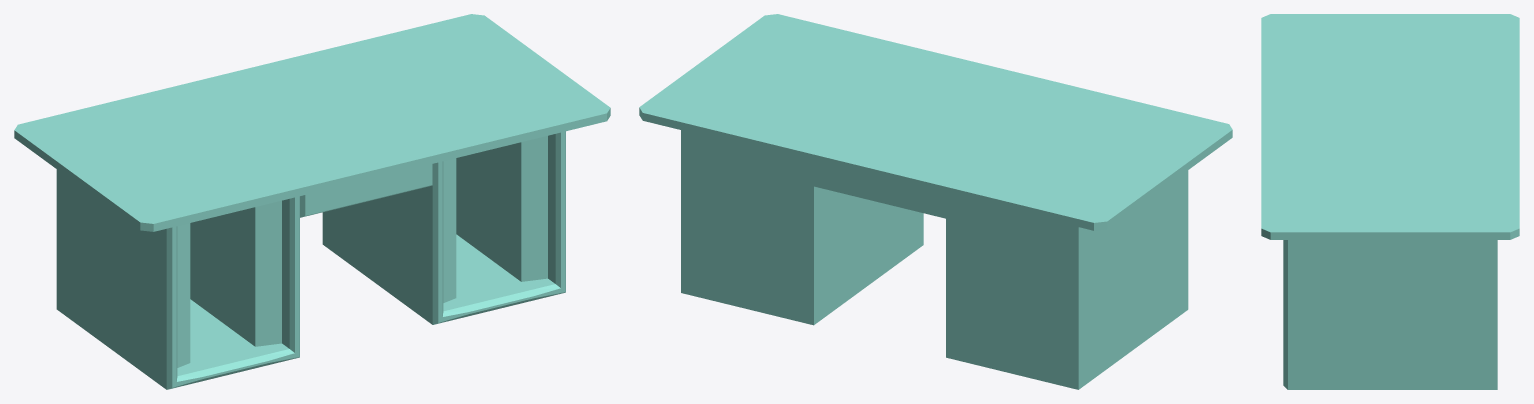
The model's file is Office_Table.FBX.
3 renders of one model, left to right at view 1: azimuth 30°, elevation 25°; view 2: azimuth 150°, elevation 25°; view 3: azimuth 270°, elevation 25°, orthographic. The views are drawn at different scales.
Parts seen in each view (by area): view 1: Office_Table; view 2: Office_Table; view 3: Office_Table.
Part boxes in pixels (<box>): Office_Table: <box>14,14,610,389</box>; Office_Table: <box>639,14,1232,389</box>; Office_Table: <box>1261,14,1519,389</box>.
Bounding box in the file's own units: 22.01 × 8.18 × 11.
